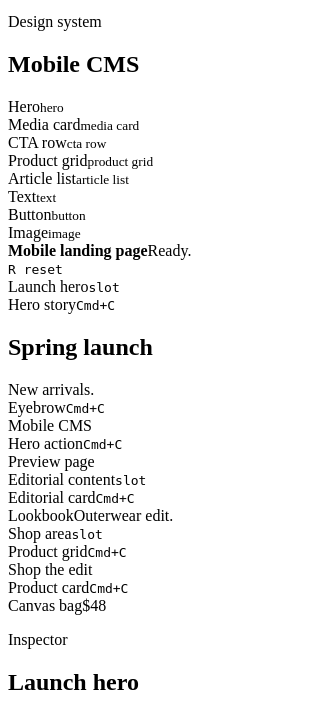
mobile CMS usable editing surface › does not copy page sections because sections are paste targets, not portable blocks
Expected: the heading "Mobile CMS" is shown, [8, 51, 139, 77]
Click the text "Editorial content".
click(62, 479)  # box [8, 471, 115, 488]
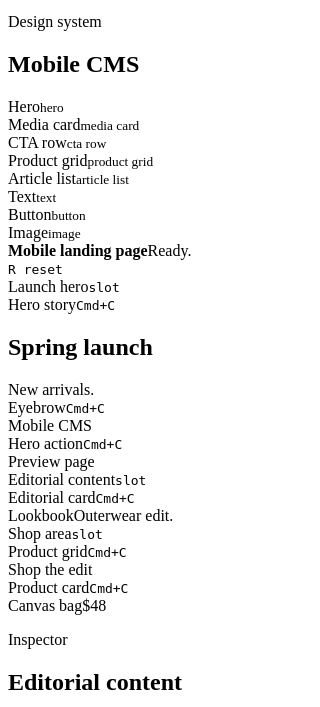
Type keys "{Control>}c{/Control}"
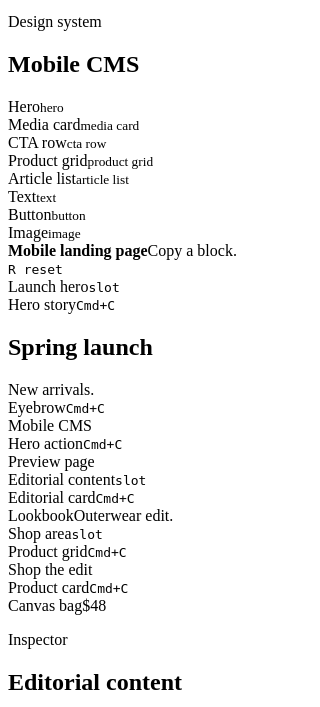
Now the text "Copy a block." is shown, box [148, 242, 237, 259]
